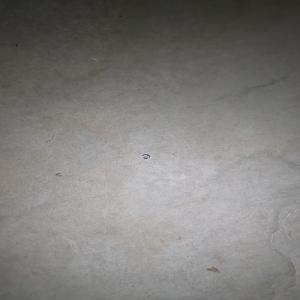Nut: (141, 154, 151, 160)
